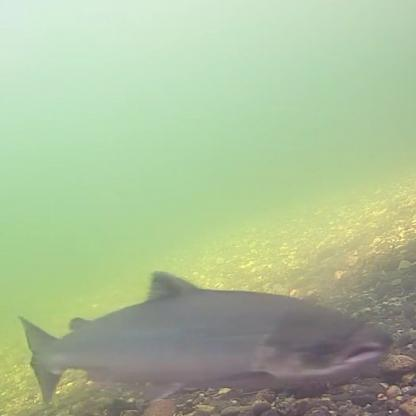salmon: (14, 265, 400, 408)
